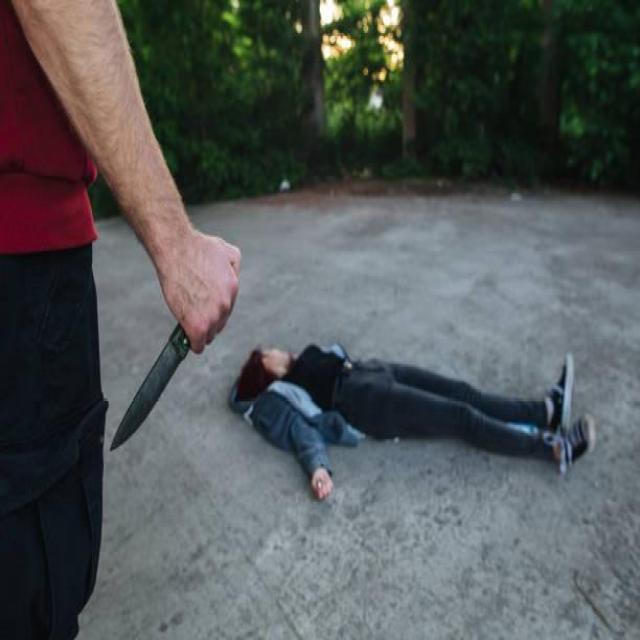faca: (94, 228, 247, 464)
